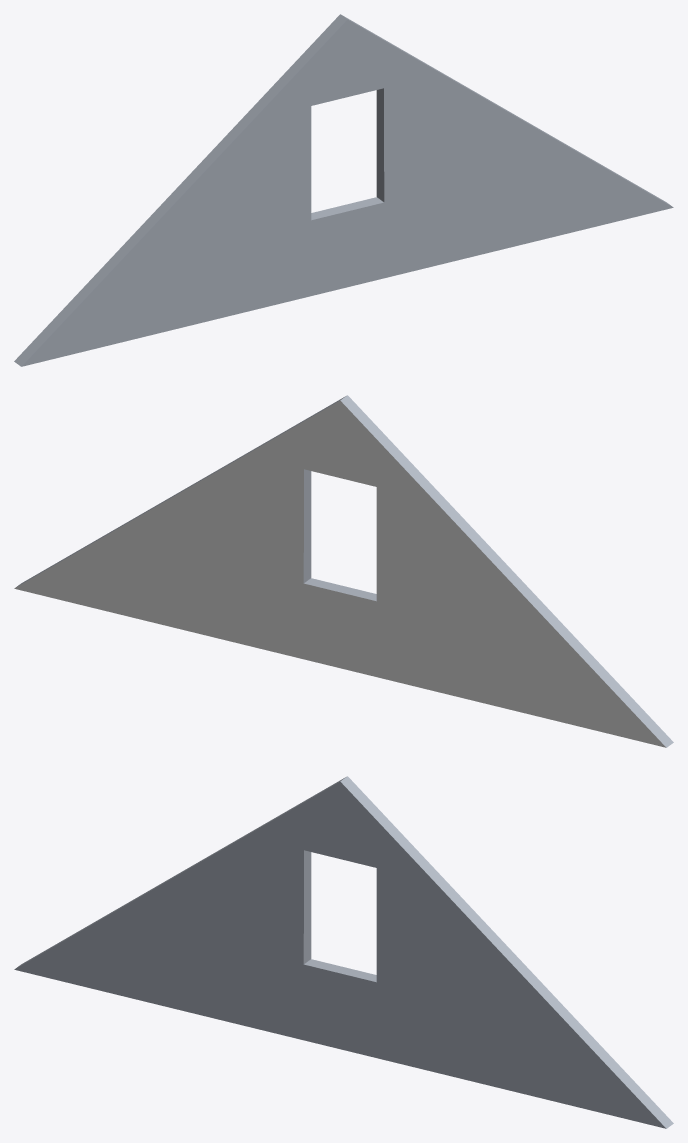
The model's file is Wall1_C5_19.fbx.
3 renders of one model, top to bottom at view 1: azimuth 30°, elevation 25°; view 2: azimuth 150°, elevation 25°; view 3: azimuth 330°, elevation 25°, orthographic.
Visible parts, largest first — view 1: Wall1_C5_19; view 2: Wall1_C5_19; view 3: Wall1_C5_19.
Part boxes in pixels (x1,y1,x2,y2): Wall1_C5_19: (14,14,673,366); Wall1_C5_19: (14,395,673,747); Wall1_C5_19: (14,776,673,1128).
Size of the model in its own units: 765 by 300 by 15.
